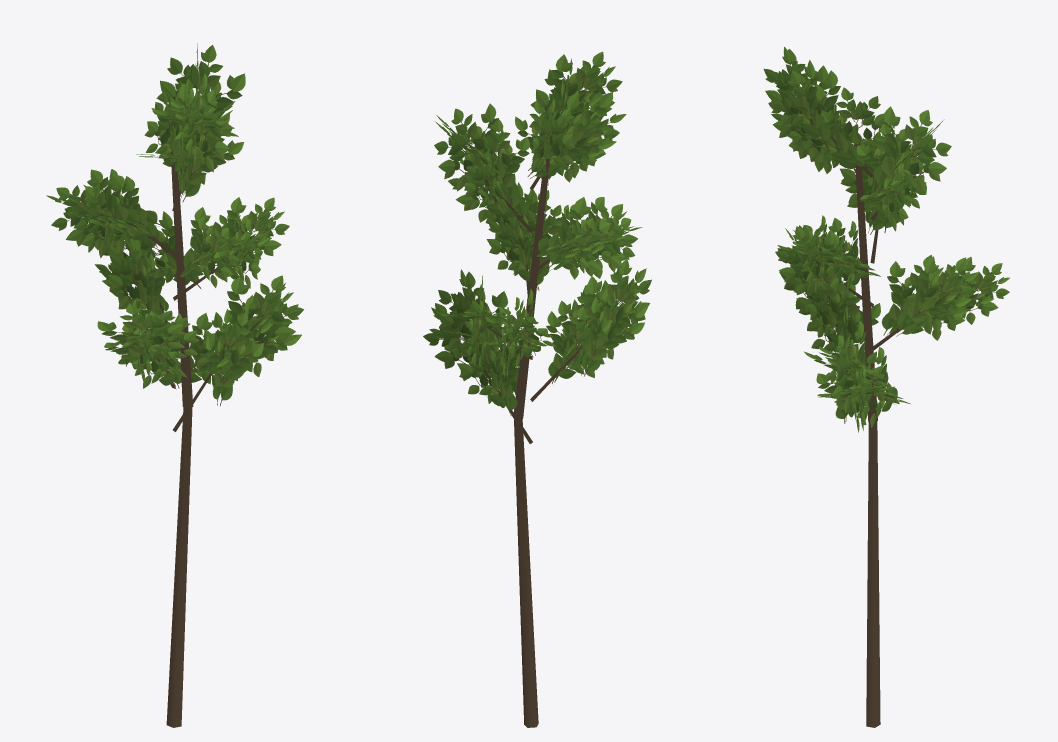
File: Tall Shrub 09.glb
3 renders of one model, left to right at view 1: azimuth 30°, elevation 25°; view 2: azimuth 150°, elevation 25°; view 3: azimuth 270°, elevation 25°, orthographic. The views are drawn at different scales.
Parts seen in each view (by area): view 1: Tall Shrub 09; view 2: Tall Shrub 09; view 3: Tall Shrub 09.
Boxes of the visible parts, left/top/right/bottom form: Tall Shrub 09: left=46, top=43, right=303, bottom=727; Tall Shrub 09: left=423, top=51, right=651, bottom=727; Tall Shrub 09: left=763, top=47, right=1009, bottom=727.
Bounding box in the file's own units: 1.75 × 3.97 × 1.64.
Materials: 1 (1 with a texture image).
